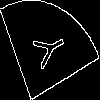Y: (25, 25, 69, 75)
